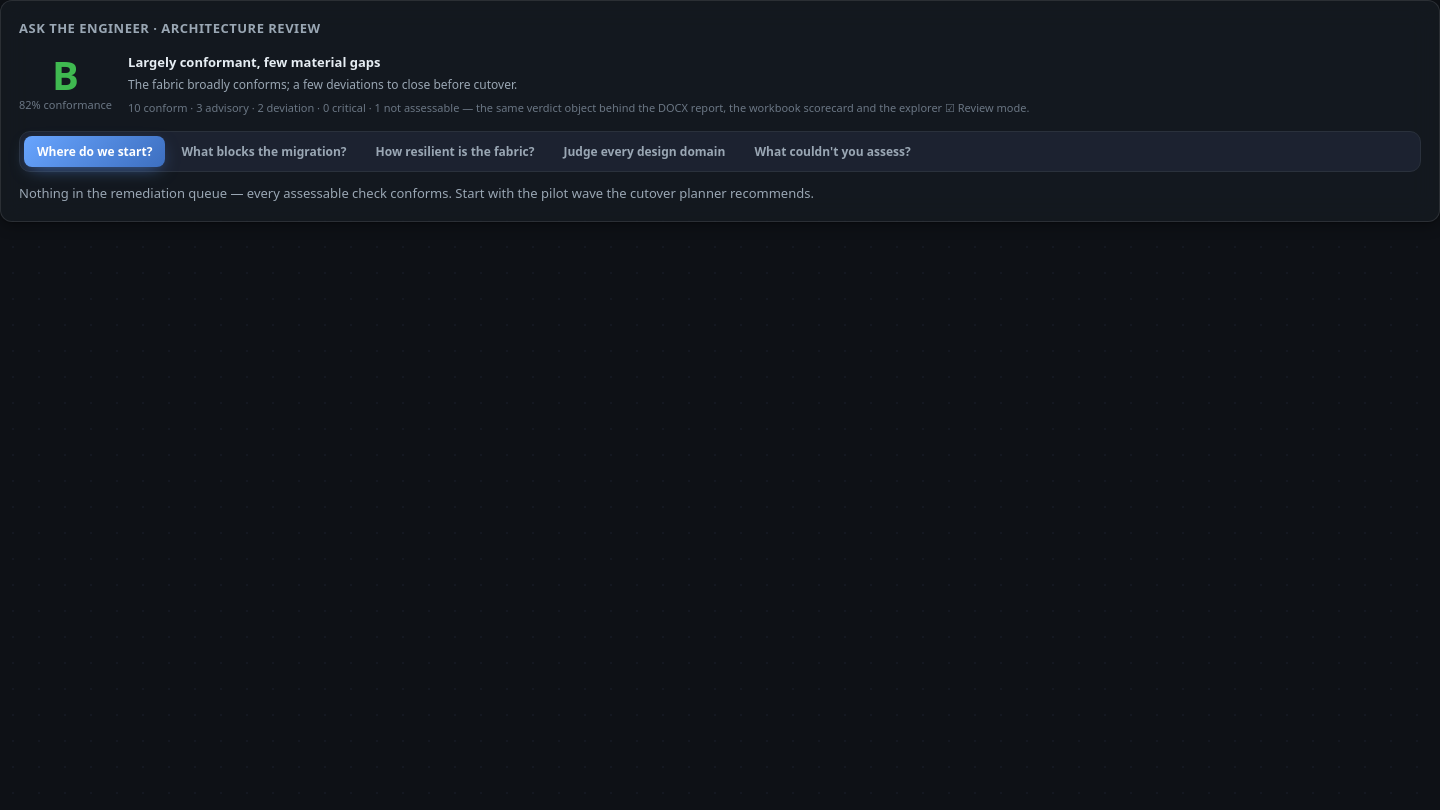
ArchReviewPanel accessible tabs + keyboard domain rows › selects a domain row from the keyboard — Enter toggles aria-pressed and reveals its checks
This screenshot has width=1440, height=810.
Click the tab "Judge every design domain" at (644, 151), box [550,136,738,166]
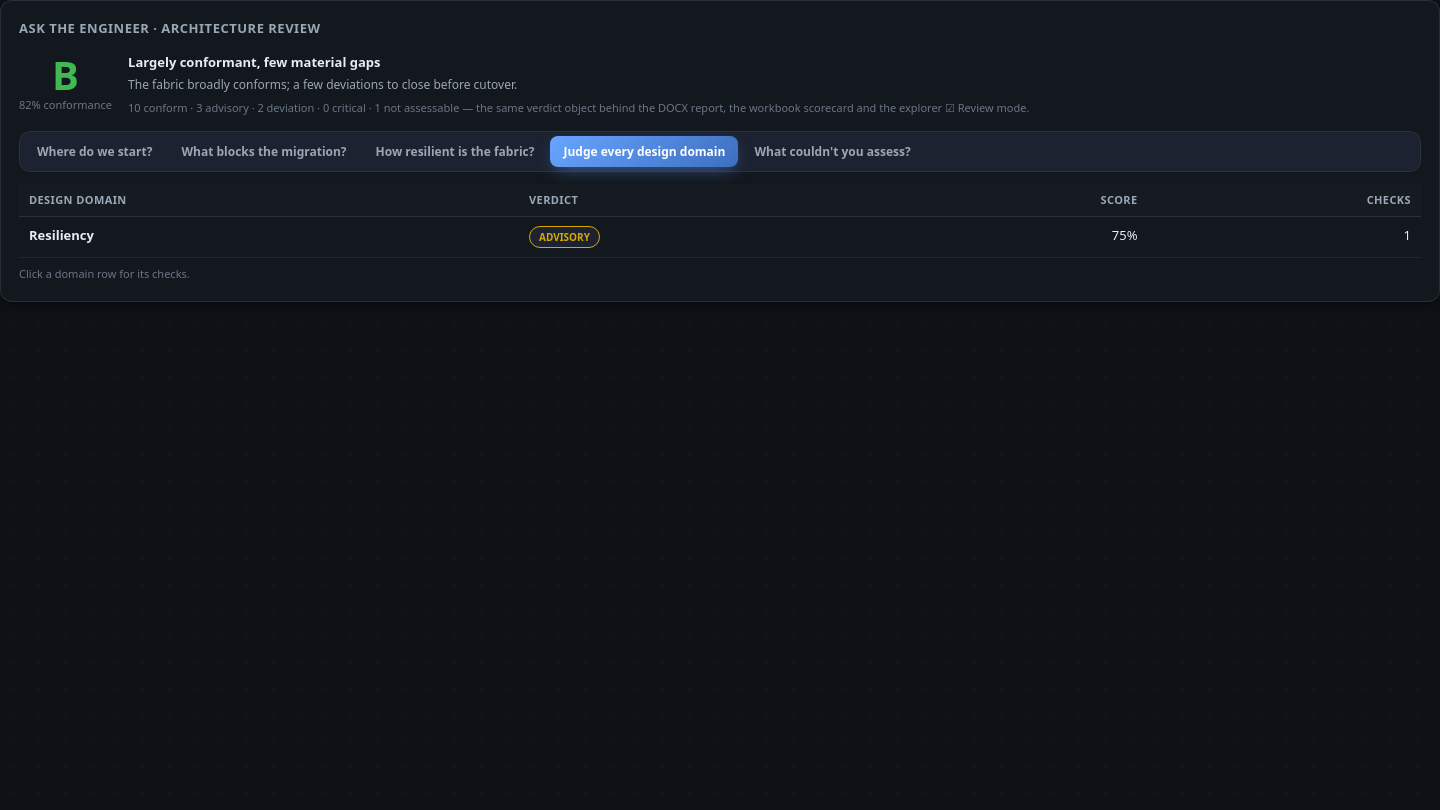
Press Enter in the button "Resiliency ADVISORY 75% 1", box [19,216,1421,258]
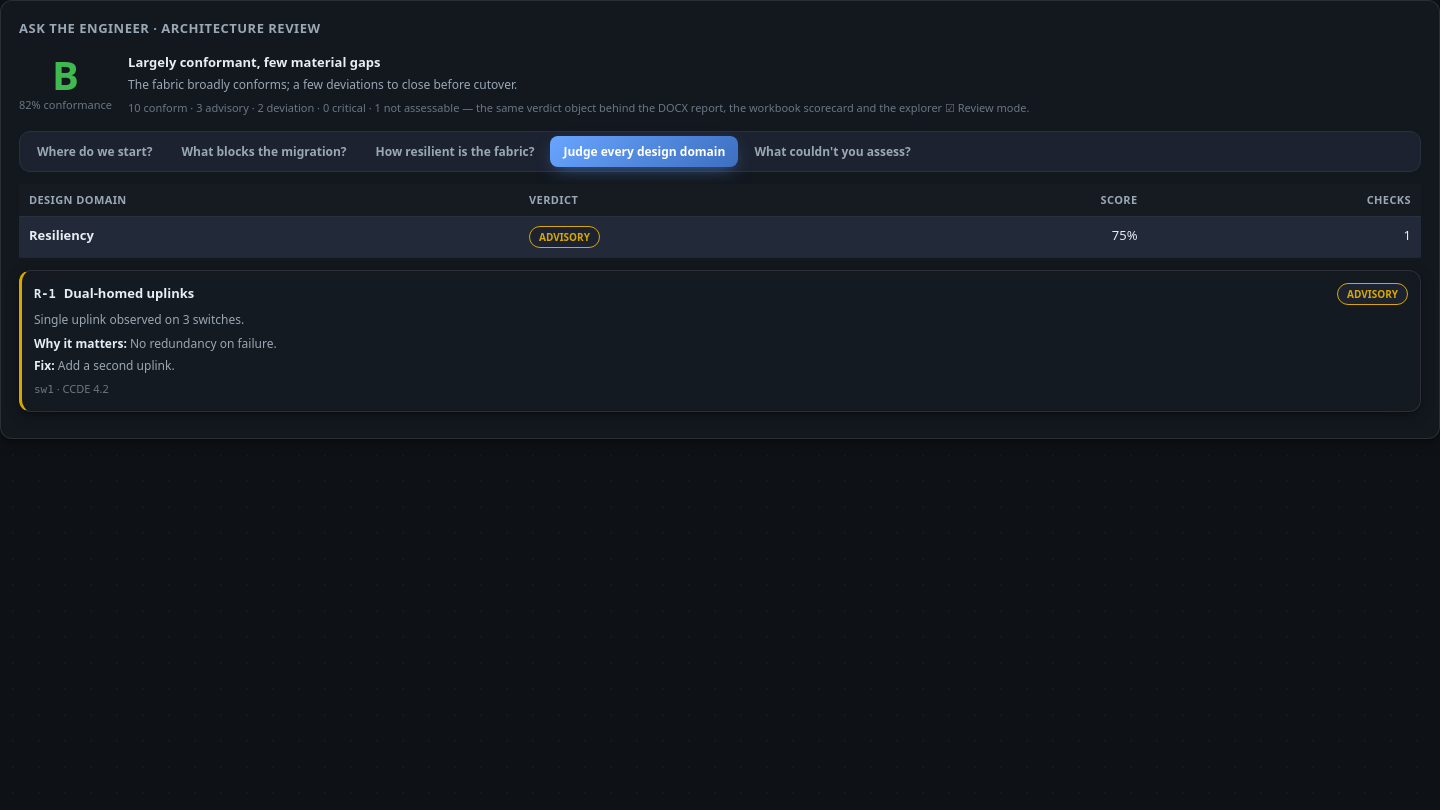
Now the text "Dual-homed uplinks" is shown, box [64,284,194,304]
